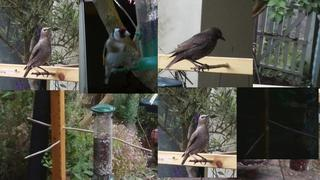goldfinch: (102, 27, 131, 85)
starling: (165, 27, 226, 73), (181, 114, 210, 166), (23, 27, 52, 78)
